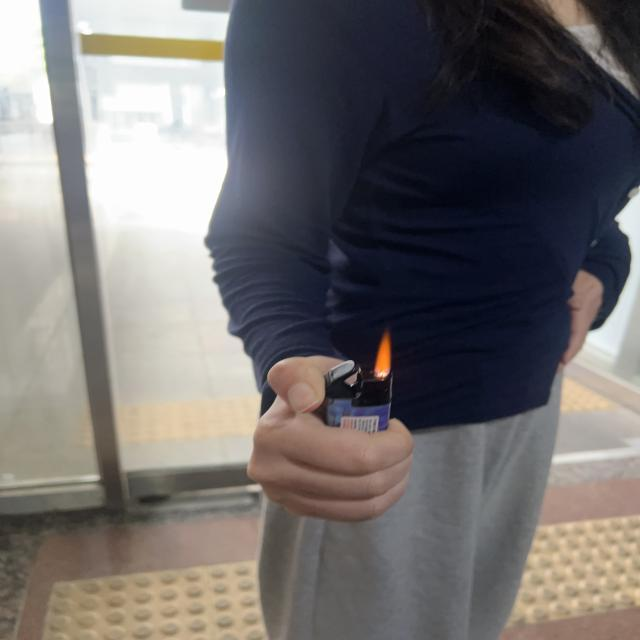fire: (374, 330, 394, 380)
